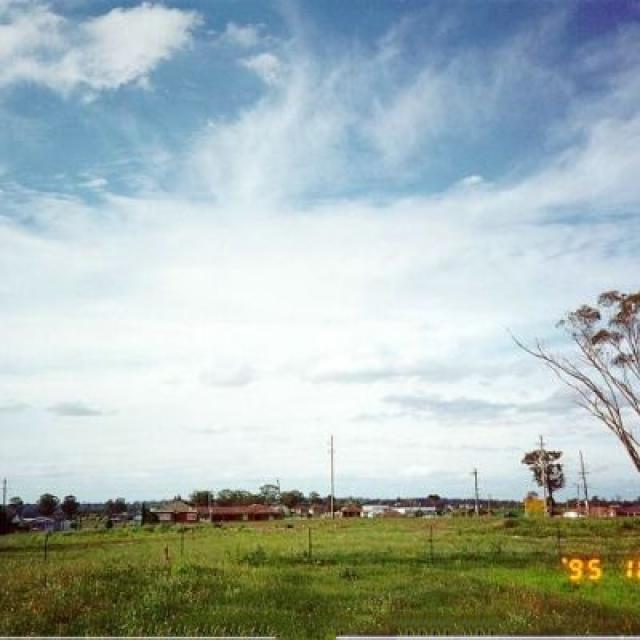Cs: (1, 14, 640, 289)
